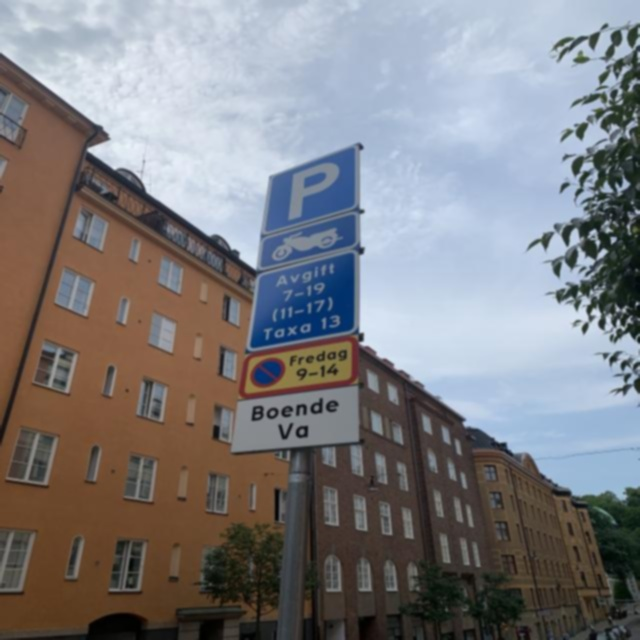P-skylt: (254, 140, 362, 238)
